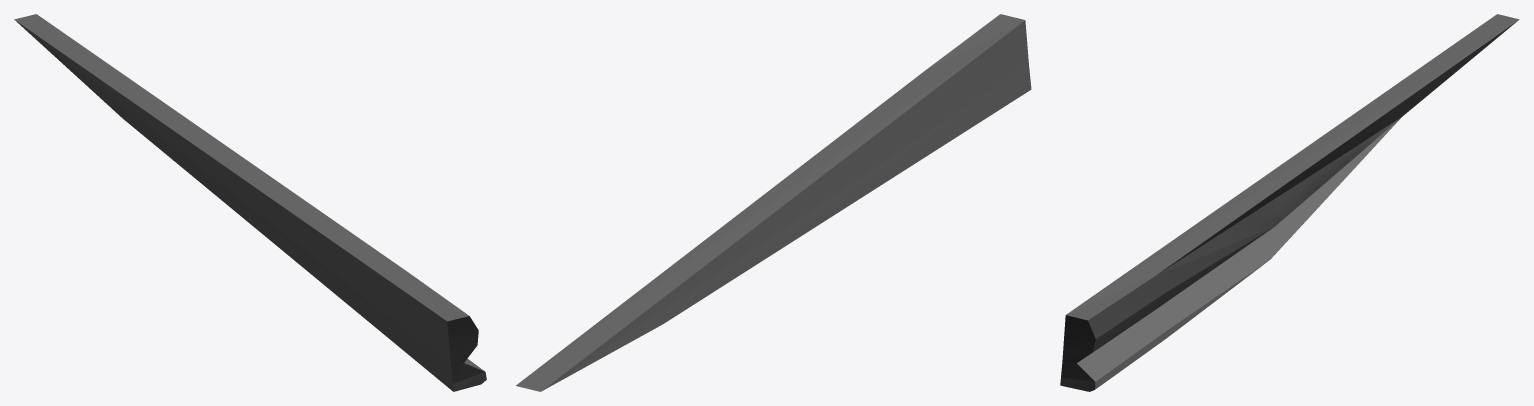
The model's file is Muscle_1_Sidepanel_2_R.fbx.
The picture shows the model from 3 angles, left to right: view 1: azimuth 30°, elevation 25°; view 2: azimuth 150°, elevation 25°; view 3: azimuth 330°, elevation 25°; orthographic projection. The views are drawn at different scales.
Visible parts, largest first — view 1: Muscle_1_Sidepanel_2_R; view 2: Muscle_1_Sidepanel_2_R; view 3: Muscle_1_Sidepanel_2_R.
Part boxes in pixels (bbox=[...]): Muscle_1_Sidepanel_2_R: bbox=[14, 14, 486, 391]; Muscle_1_Sidepanel_2_R: bbox=[516, 14, 1031, 391]; Muscle_1_Sidepanel_2_R: bbox=[1060, 14, 1519, 391].
Bounding box in the file's own units: 3.9 × 5.92 × 70.93.
